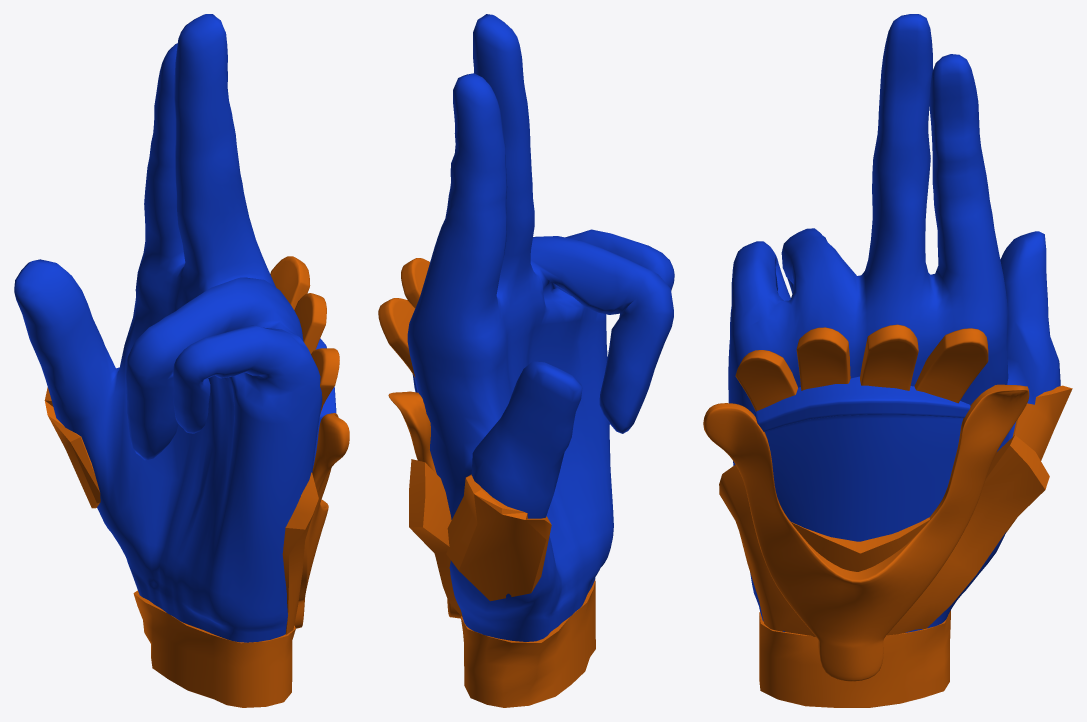
The model's file is hand_pos_select.FBX.
3 renders of one model, left to right at view 1: azimuth 30°, elevation 25°; view 2: azimuth 150°, elevation 25°; view 3: azimuth 270°, elevation 25°, orthographic. The views are drawn at different scales.
Parts seen in each view (by area): view 1: HAND_rest_left, Object001; view 2: HAND_rest_left, Object001; view 3: HAND_rest_left, Object001.
Part boxes in pixels (left/top/right/bottom): HAND_rest_left: left=14, top=14, right=336, bottom=642; Object001: left=44, top=256, right=349, bottom=707; HAND_rest_left: left=407, top=14, right=674, bottom=641; Object001: left=378, top=258, right=595, bottom=707; HAND_rest_left: left=728, top=14, right=1060, bottom=632; Object001: left=703, top=324, right=1072, bottom=707.
Size of the model in its own units: 3.64 by 9.54 by 4.72.
